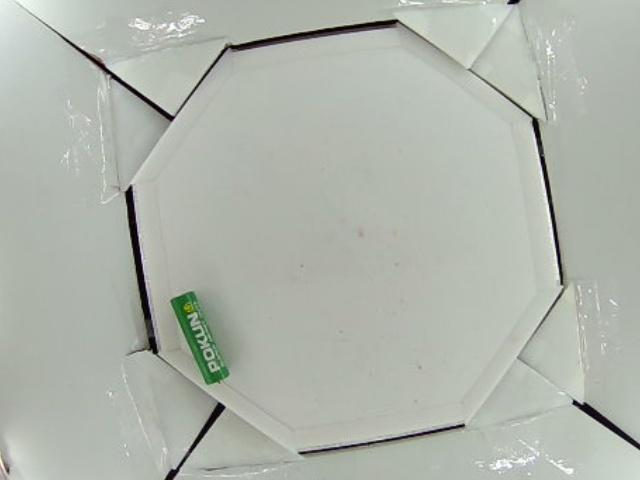Battery: (172, 291, 230, 387)
